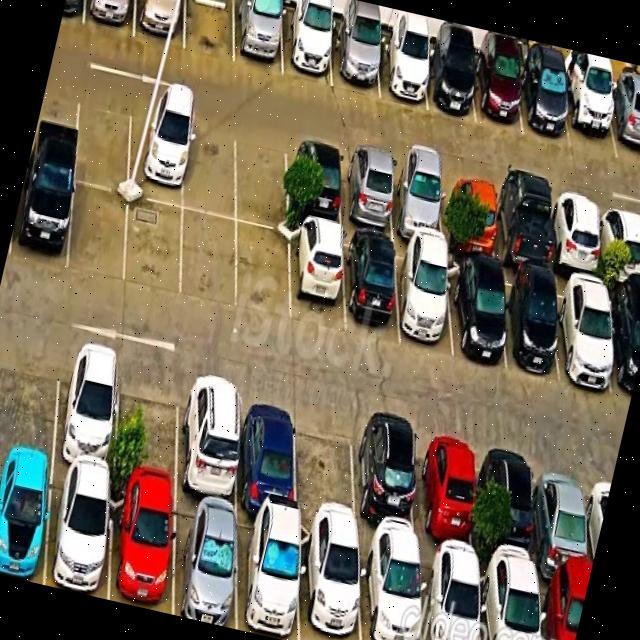empty: (115, 356, 180, 494), (0, 329, 61, 462), (297, 400, 357, 535), (68, 182, 128, 283), (74, 88, 131, 192), (125, 196, 182, 298), (180, 209, 236, 309), (182, 114, 235, 219), (236, 125, 287, 232), (236, 223, 289, 321), (184, 0, 234, 62)
occupied: (52, 341, 120, 478), (353, 413, 418, 549), (45, 466, 111, 599), (172, 496, 236, 629), (177, 371, 239, 508), (109, 482, 173, 614), (416, 424, 474, 563), (236, 511, 298, 640), (237, 385, 296, 519), (535, 450, 591, 584), (300, 524, 361, 640), (485, 439, 537, 574), (553, 276, 614, 391), (9, 165, 74, 271), (446, 258, 506, 369), (0, 456, 52, 584), (497, 268, 558, 376), (395, 244, 452, 357), (128, 101, 187, 207), (359, 541, 421, 640), (344, 232, 399, 341), (290, 221, 344, 332), (419, 551, 480, 640), (493, 182, 550, 274), (287, 137, 342, 227), (441, 171, 496, 260), (479, 563, 540, 640), (341, 148, 394, 236), (389, 159, 443, 245), (561, 74, 616, 158), (549, 193, 601, 279), (519, 61, 570, 147), (473, 51, 522, 134), (423, 44, 475, 122), (281, 7, 332, 86), (376, 32, 427, 110), (606, 286, 640, 401), (234, 0, 282, 75), (598, 202, 640, 287), (332, 22, 379, 96), (537, 575, 588, 640), (605, 83, 640, 164), (133, 0, 185, 48), (83, 0, 135, 36)
